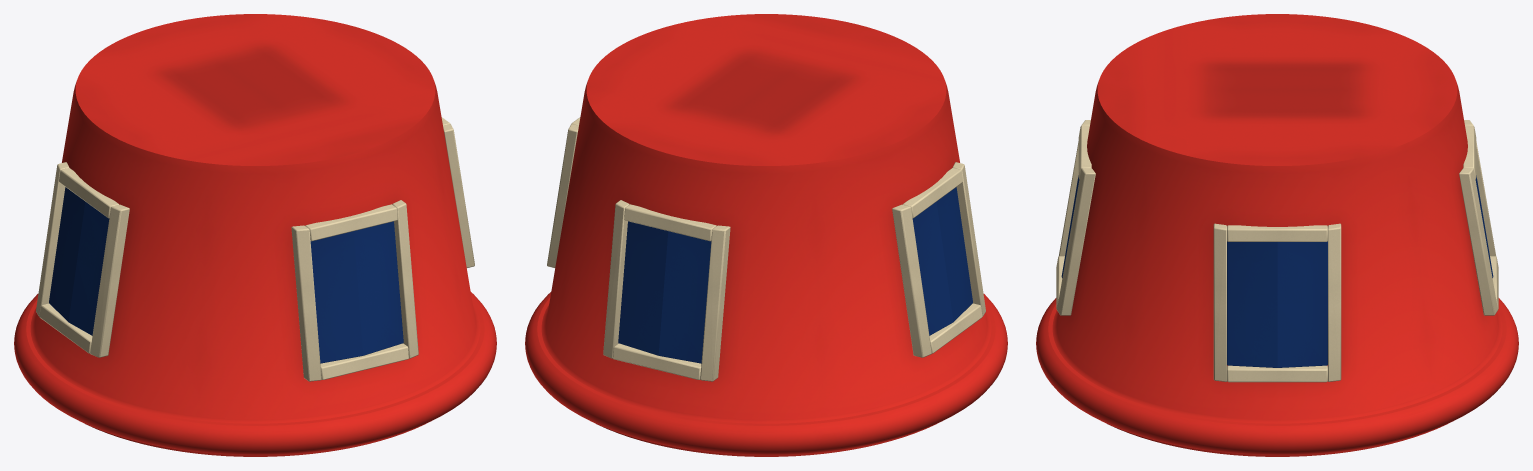
Rendered from 4-inverted-cup-4.fbx.
3 renders of one model, left to right at view 1: azimuth 30°, elevation 25°; view 2: azimuth 150°, elevation 25°; view 3: azimuth 270°, elevation 25°, orthographic.
Parts seen in each view (by area): view 1: inverted-cup-4; view 2: inverted-cup-4; view 3: inverted-cup-4.
Boxes of the visible parts, x1,y1,x2,y2 form: inverted-cup-4: (14, 14, 496, 456); inverted-cup-4: (525, 14, 1007, 456); inverted-cup-4: (1036, 14, 1518, 456).
Size of the model in its own units: 6440 by 4000 by 6440.
1 material, 1 textured.
